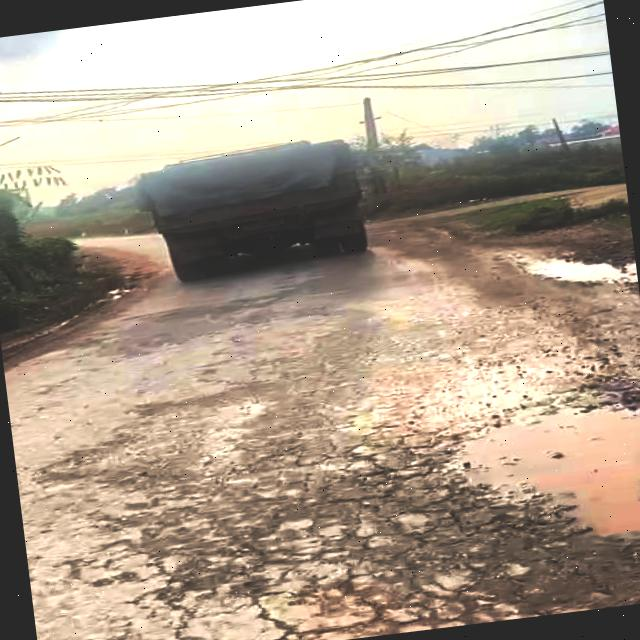pothole: (421, 379, 640, 574)
